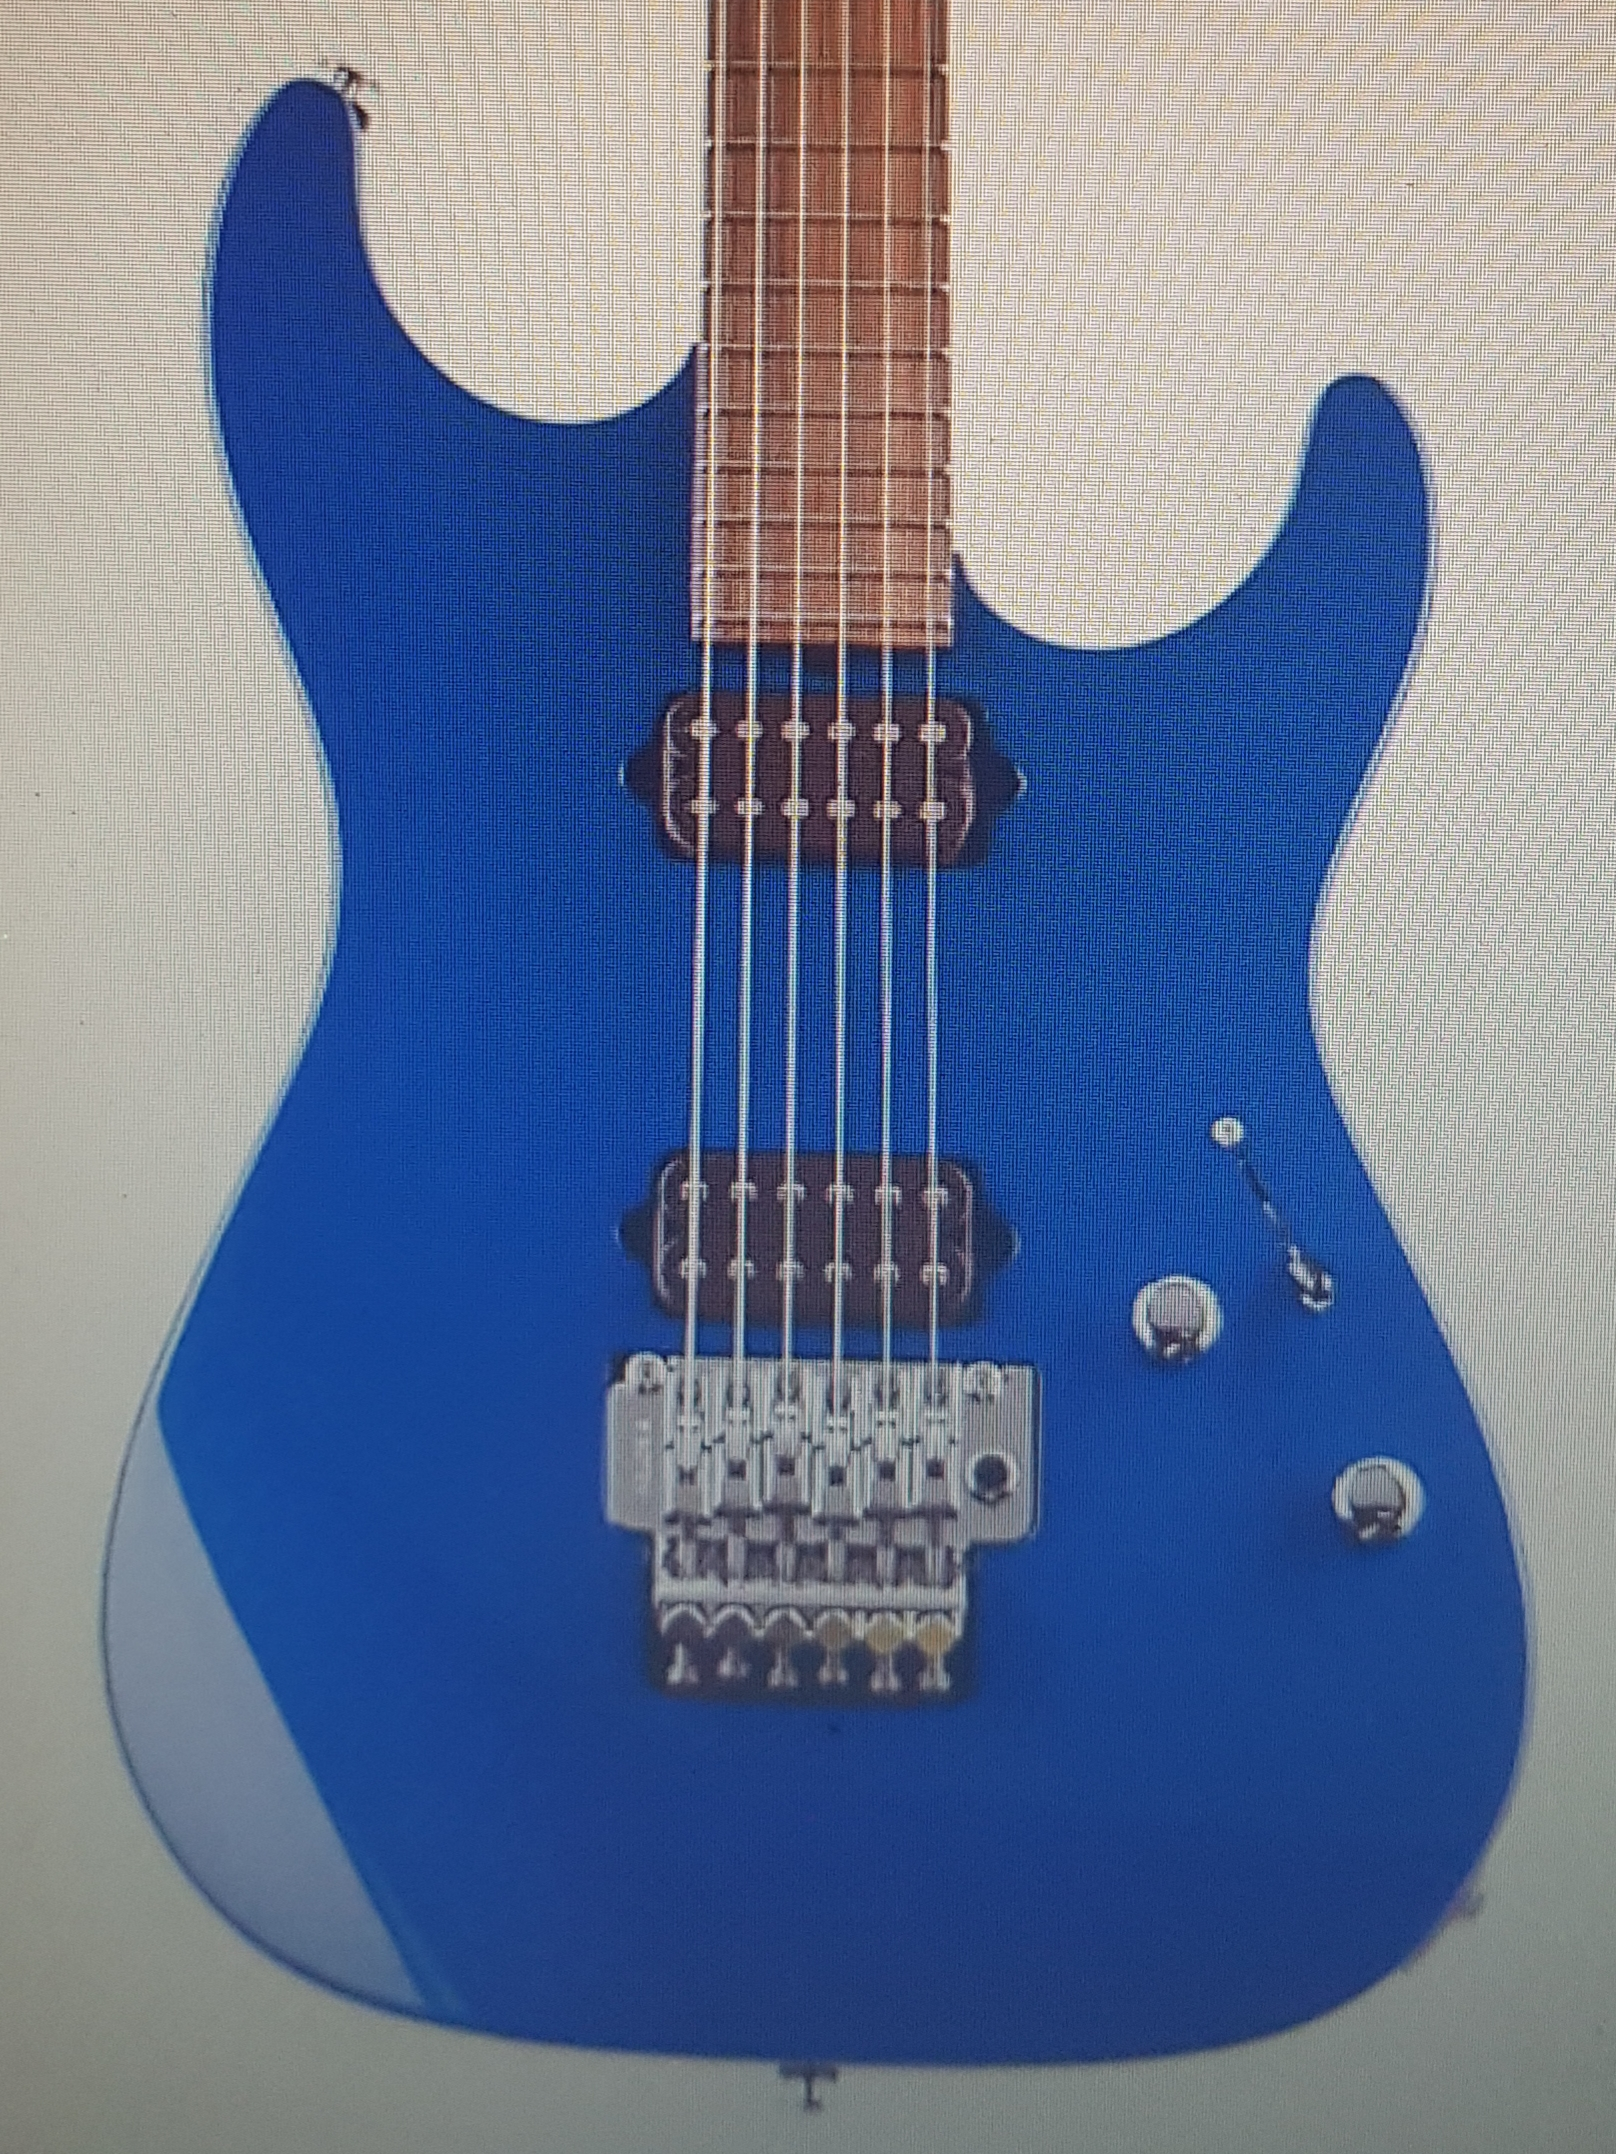Blue: (92, 59, 1536, 2079)
